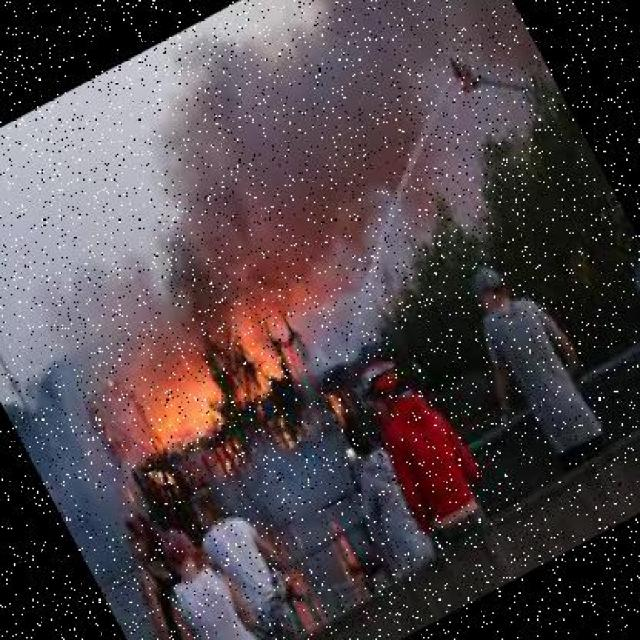fire: (61, 278, 314, 492)
